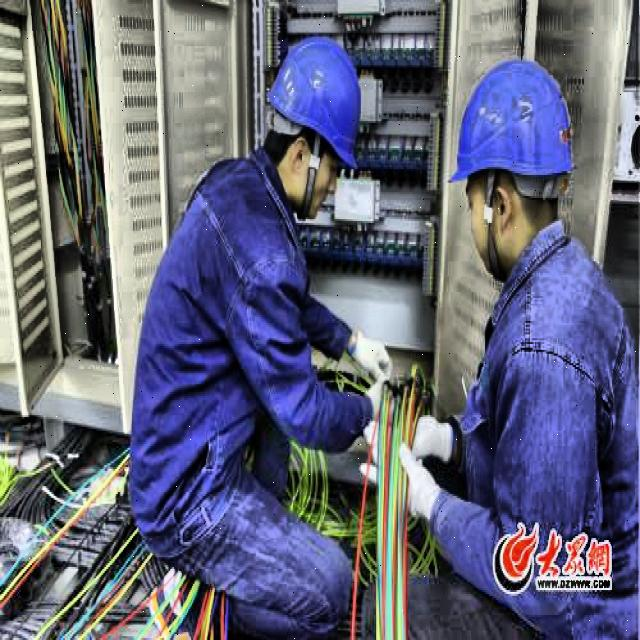helmet: (444, 36, 586, 284), (255, 23, 375, 229)
